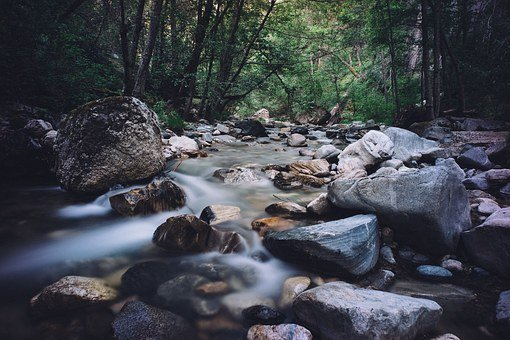mountain: (7, 4, 494, 323)
stone: (290, 112, 509, 340), (48, 88, 173, 175)
